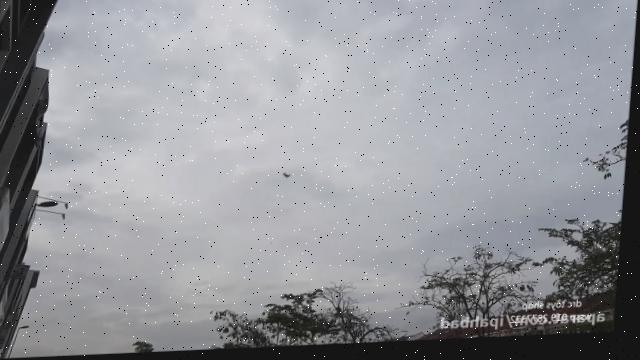drone: (283, 172, 295, 183)
